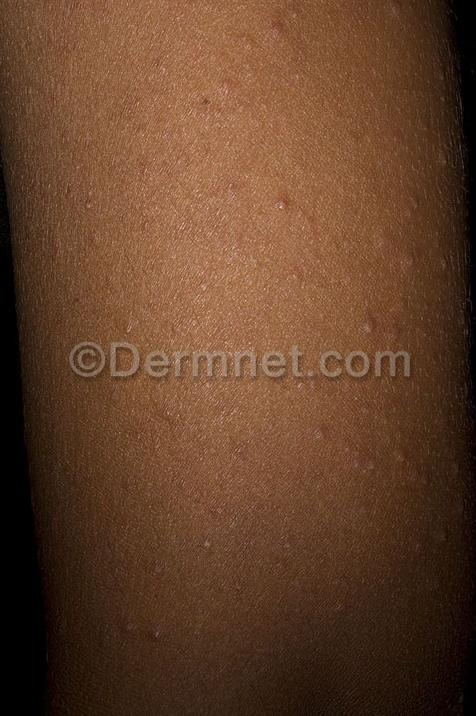edema 1: (47, 1, 465, 650)
